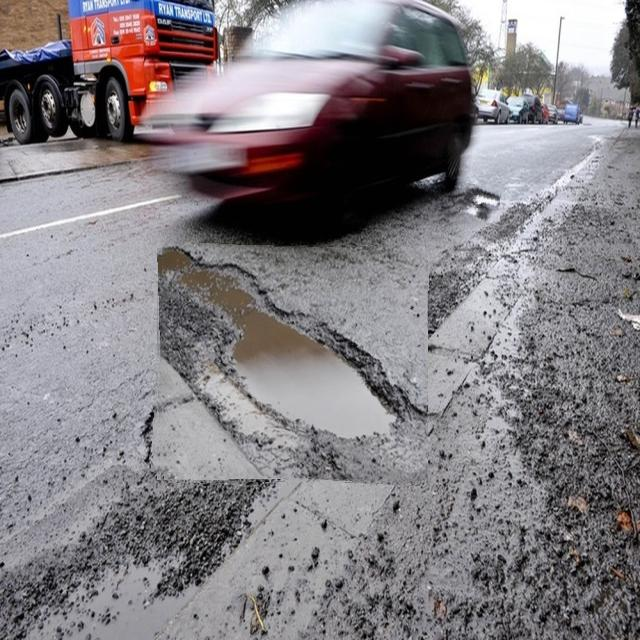Pothole: (154, 245, 428, 483), (460, 185, 500, 227)
